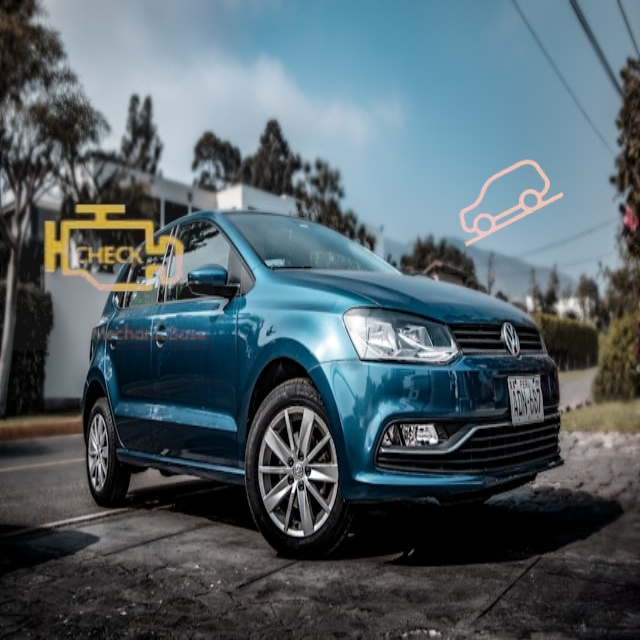symbol: (12, 148, 214, 350), (444, 137, 580, 273)
